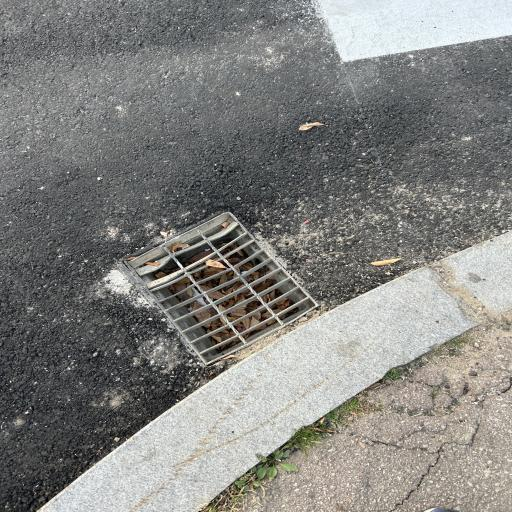debris: (234, 308, 272, 333), (225, 298, 263, 320), (216, 289, 254, 310), (208, 279, 244, 301), (200, 271, 237, 290), (187, 249, 213, 264), (204, 318, 226, 332), (213, 328, 235, 342), (196, 308, 217, 321), (254, 280, 273, 292), (182, 288, 199, 301), (190, 298, 207, 311), (273, 299, 288, 313), (204, 266, 224, 276), (206, 259, 225, 268), (170, 242, 188, 251), (262, 291, 275, 303), (246, 271, 261, 281), (174, 282, 187, 292), (240, 261, 253, 271), (155, 271, 168, 278), (145, 261, 160, 266), (237, 249, 244, 257), (221, 221, 230, 227)
drain: (125, 213, 318, 365)
